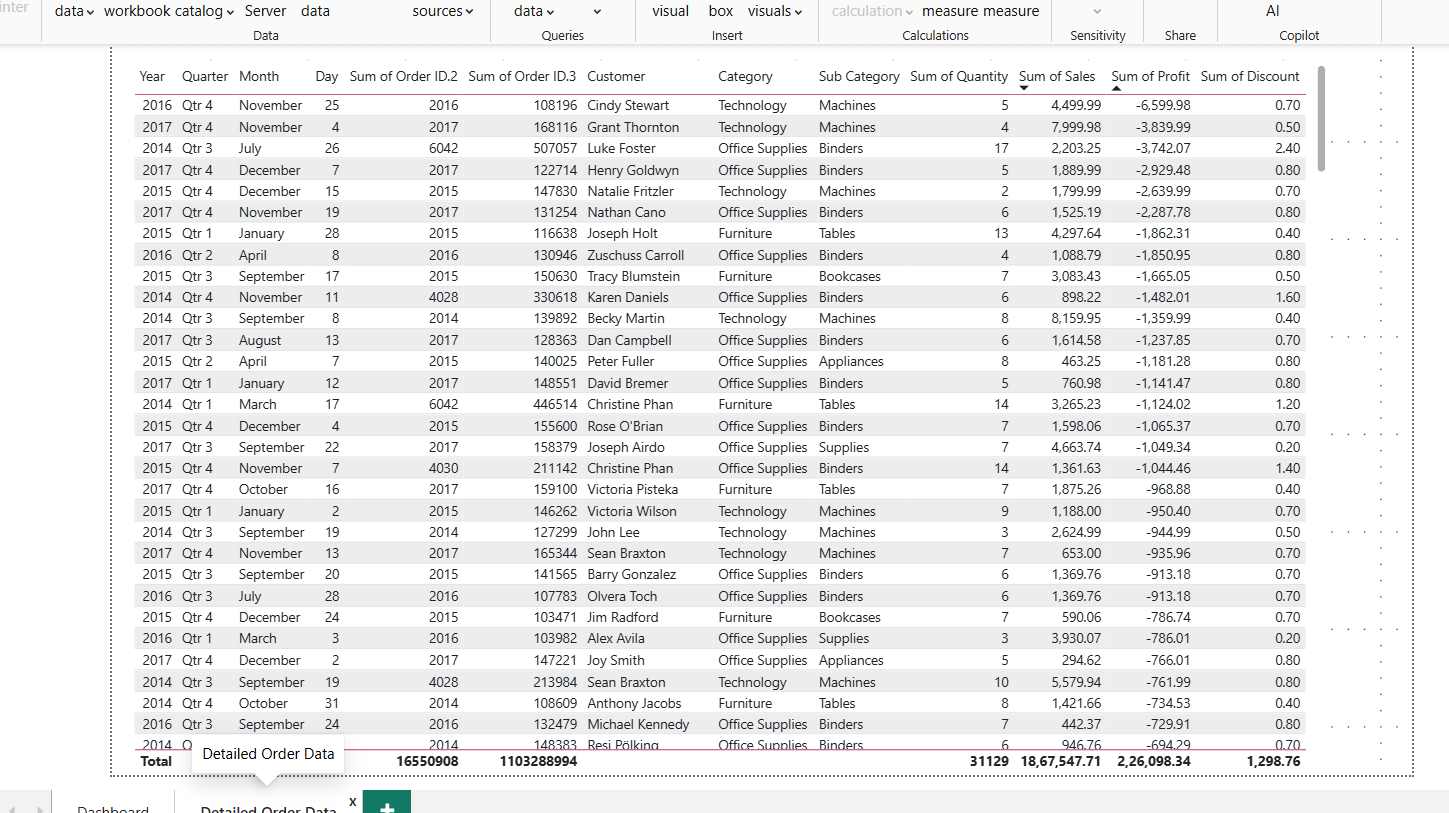

Layout of this report page (visuals, bound fields, positions):
{"tool":"powerbi","page":{"name":"Detailed Order Data","canvas":[1280,720],"ordinal":1},"visuals":[{"type":"tableEx","fields":{"Values":["Sample - Superstore.Order Date.Variation.Date Hierarchy.Year","Sample - Superstore.Order Date.Variation.Date Hierarchy.Quarter","Sample - Superstore.Order Date.Variation.Date Hierarchy.Month","Sample - Superstore.Order Date.Variation.Date Hierarchy.Day","Sum(Sample - Superstore.Order ID.2)","Sum(Sample - Superstore.Order ID.3)","Sample - Superstore.Customer","Sample - Superstore.Category","Sample - Superstore.Sub Category","Sum(Sample - Superstore.Quantity)","Sum(Sample - Superstore.Sales)","Sum(Sample - Superstore.Profit)"]},"box":[16,16,1184,704],"z":0}]}

Visuals, with their boxes on the page's 1280x720 design canvas (x1, y1, x2, y2). These are canvas units, not pixel positions in the 1449x813 screenshot, which may show the page scaled, cropped or inside an application window:
tableEx - Sample - Superstore.Order Date.Variation.Date Hierarchy.Year x Sample - Superstore.Order Date.Variation.Date Hierarchy.Quarter: Rect(16, 16, 1200, 720)
